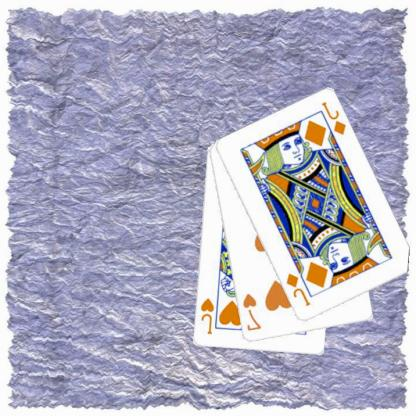7H: (242, 290, 264, 333)
JD: (285, 271, 313, 308), (321, 100, 349, 136)
JH: (199, 296, 217, 336)
